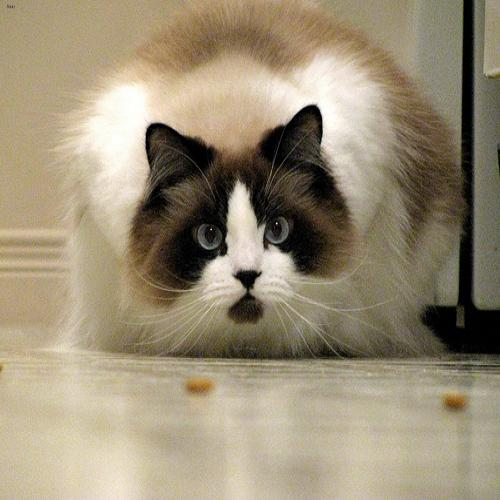ragdoll: (132, 98, 366, 344)
